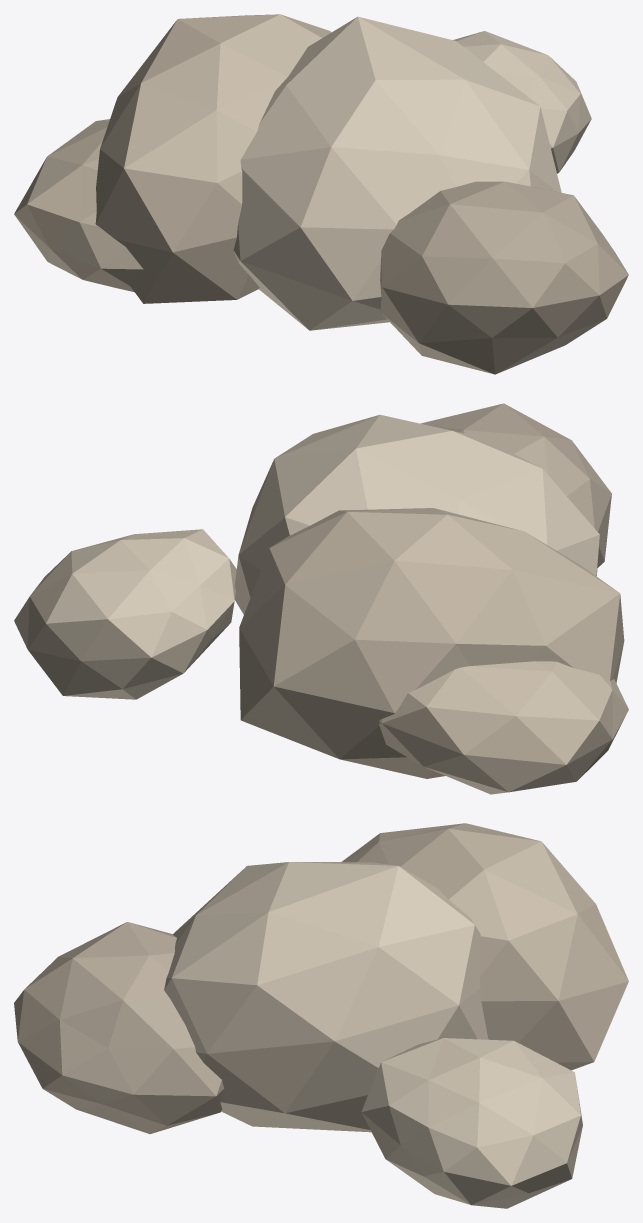
Rendered from campo_rock_cluster_5.glb.
3 views of the same model, one above another, from view 1: azimuth 30°, elevation 25°; view 2: azimuth 150°, elevation 25°; view 3: azimuth 270°, elevation 25° (orthographic). The views are drawn at different scales.
Visible parts, largest first — view 1: campo_rock_cluster_5.glb; view 2: campo_rock_cluster_5.glb; view 3: campo_rock_cluster_5.glb.
Boxes of the visible parts, <box> form: campo_rock_cluster_5.glb: <box>14,14,628,374</box>; campo_rock_cluster_5.glb: <box>14,403,628,794</box>; campo_rock_cluster_5.glb: <box>14,823,628,1208</box>.
Bounding box in the file's own units: 2.57 × 1.14 × 2.49.
